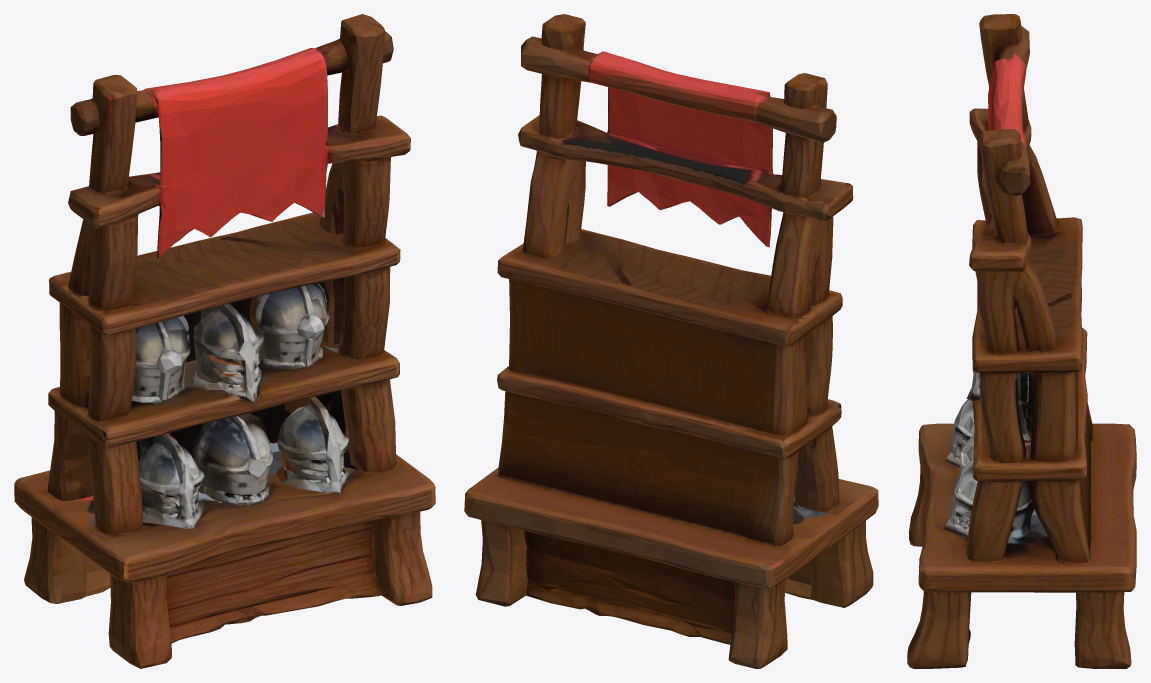
Rendered from wooden_tower.glb.
The picture shows the model from 3 angles, left to right: view 1: azimuth 30°, elevation 25°; view 2: azimuth 150°, elevation 25°; view 3: azimuth 270°, elevation 25°; orthographic projection. The views are drawn at different scales.
Size of the model in its own units: 1.2 by 1.97 by 0.7832.
Materials: 1 (1 with a texture image).
